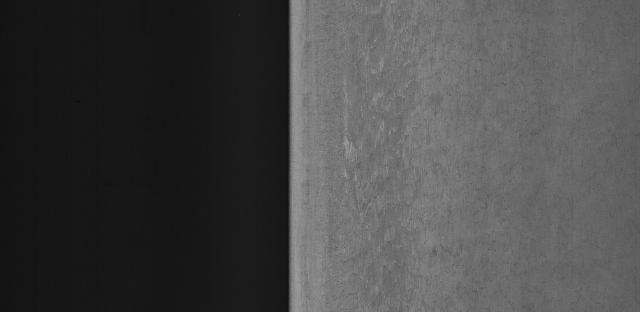silk_spot: (332, 15, 507, 287)
